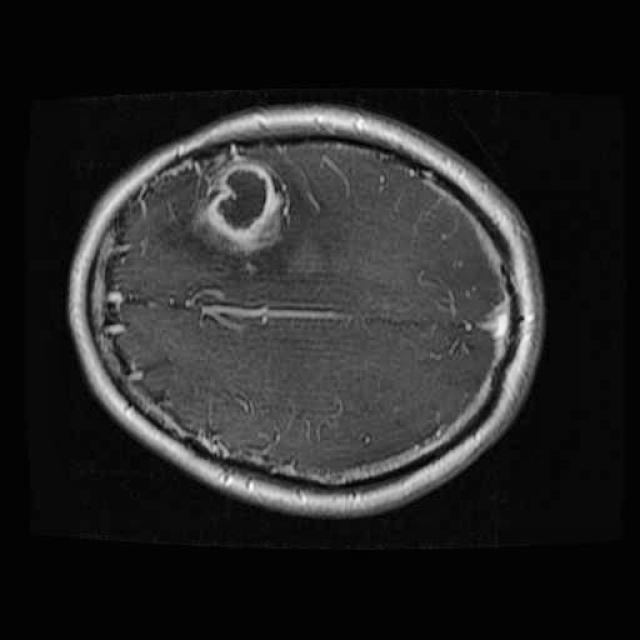Non-Tumor: (198, 152, 291, 259)
